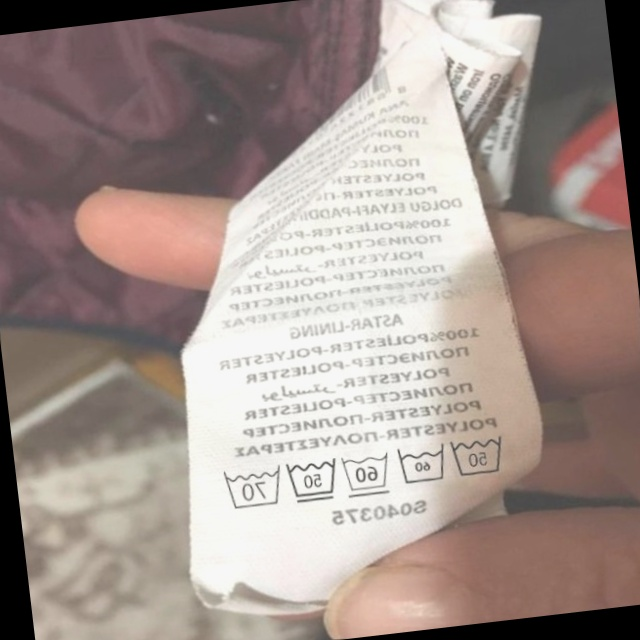50C: (443, 425, 513, 485), (280, 451, 344, 509)
60C: (334, 445, 395, 502), (390, 437, 452, 492)
70C: (214, 460, 286, 515)
